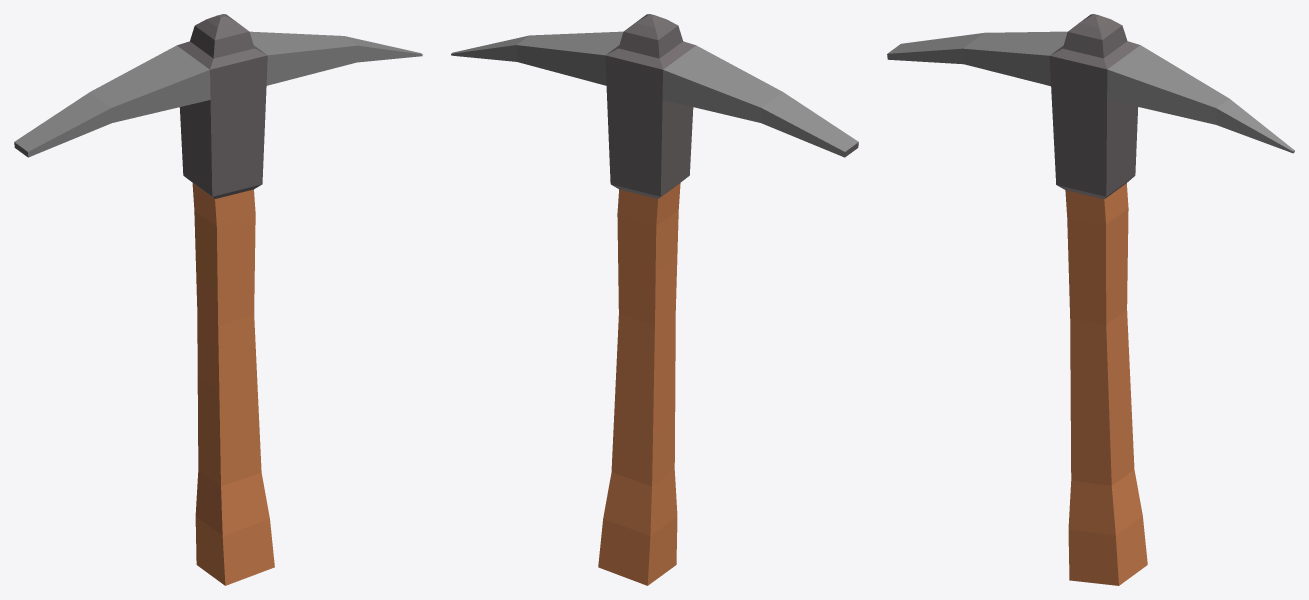
The model's file is Pickaxe.fbx.
3 views of the same model, side by side, from view 1: azimuth 30°, elevation 25°; view 2: azimuth 150°, elevation 25°; view 3: azimuth 330°, elevation 25° (orthographic).
Visible parts, largest first — view 1: Pickaxe 1; view 2: Pickaxe 1; view 3: Pickaxe 1.
Part boxes in pixels (box(x1,y1,x2,y2)): Pickaxe 1: box(14, 14, 422, 585); Pickaxe 1: box(451, 14, 858, 585); Pickaxe 1: box(887, 14, 1294, 585).
Bounding box in the file's own units: 117 × 155 × 16.83.
